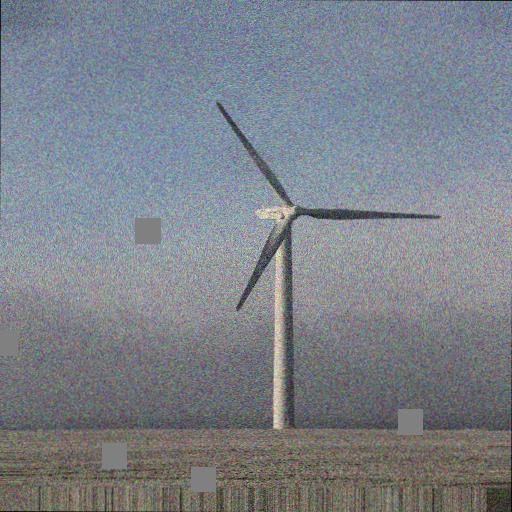wind turbine: (214, 99, 440, 432)
